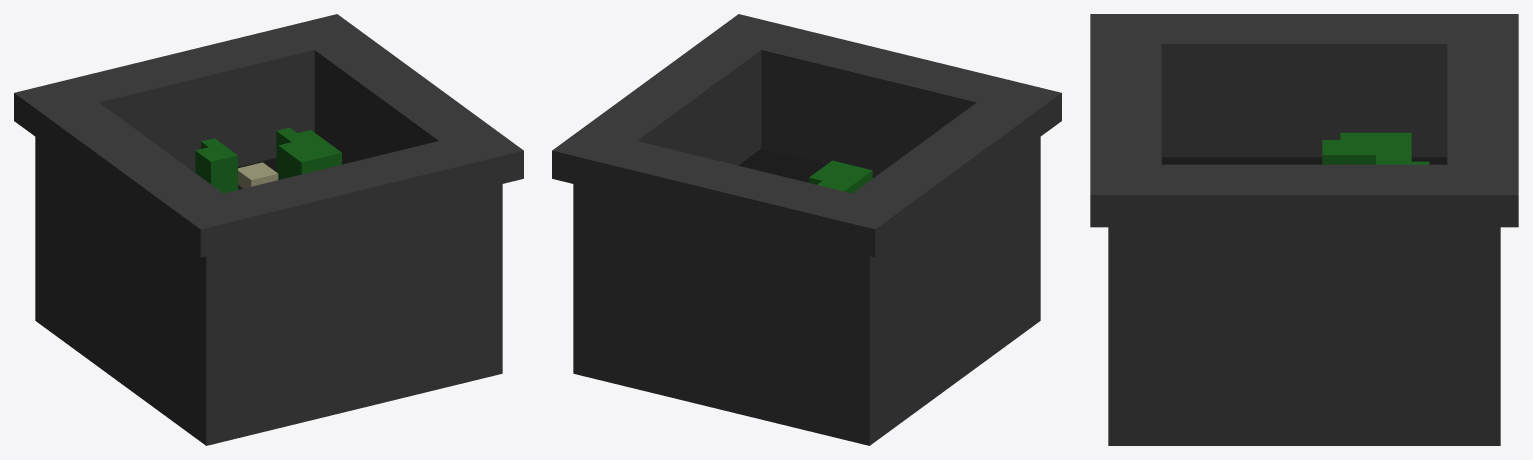
File: furniture.vox-0-trash-can.obj
The picture shows the model from 3 angles, left to right: view 1: azimuth 30°, elevation 25°; view 2: azimuth 150°, elevation 25°; view 3: azimuth 270°, elevation 25°; orthographic projection. The views are drawn at different scales.
Parts seen in each view (by area): view 1: trash-can; view 2: trash-can; view 3: trash-can.
Part boxes in pixels (x1=…): trash-can: x1=14, y1=14, x2=523, y2=445; trash-can: x1=552, y1=14, x2=1061, y2=445; trash-can: x1=1090, y1=14, x2=1518, y2=445.
Bounding box in the file's own units: 2.4 × 1.6 × 2.4.
1 material, 1 textured.
